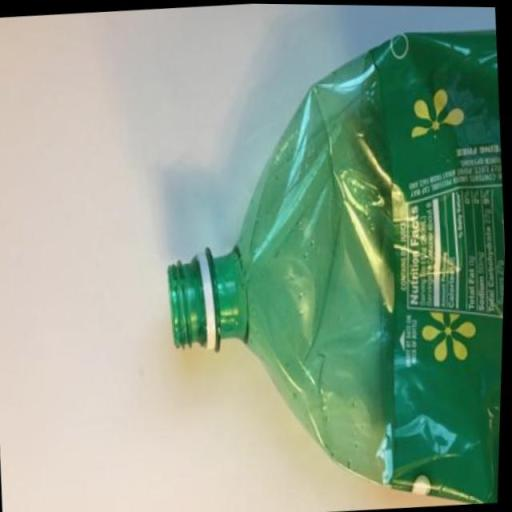plastic: (144, 15, 512, 512)
